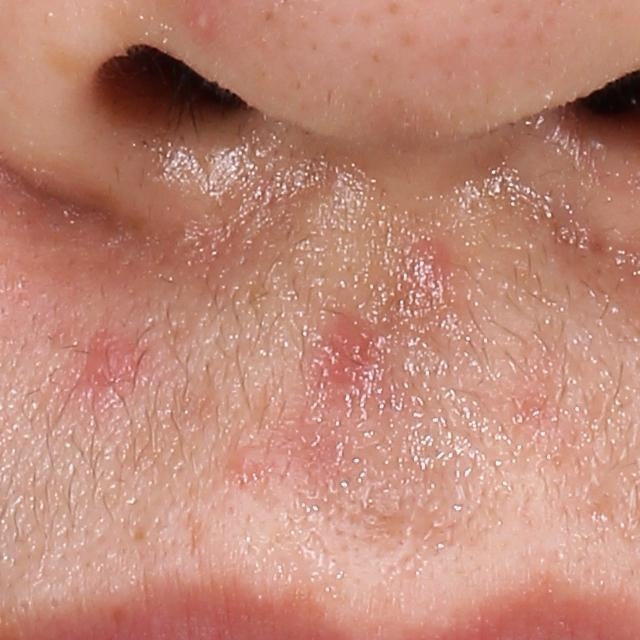papule: (399, 245, 454, 298), (322, 326, 369, 388), (89, 343, 131, 386)
